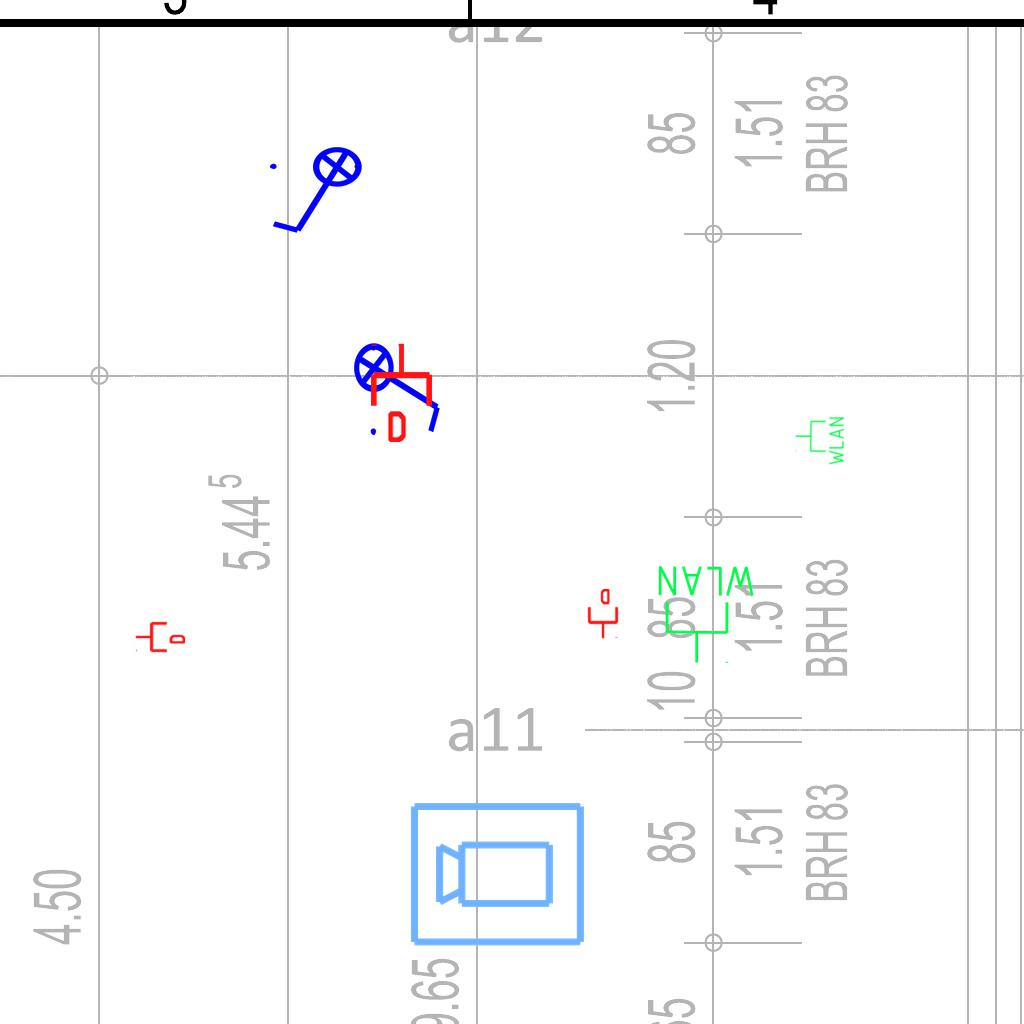Ausschalter_beleuchtet: (264, 145, 376, 241), (352, 329, 448, 441)
Datenanschluss_einfach: (367, 342, 436, 442), (135, 620, 185, 654), (586, 589, 620, 639)
KFO_Kamera_mit_Festobjektiv: (407, 796, 589, 950)
WLAN: (654, 562, 759, 666), (794, 415, 846, 467)
